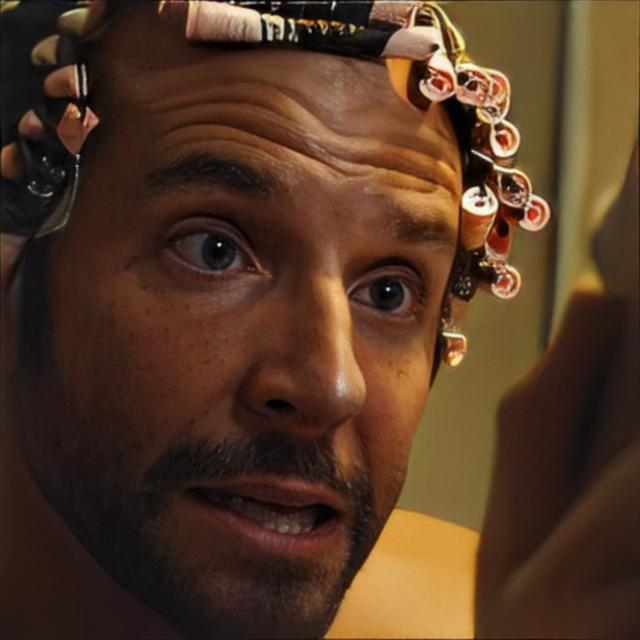surprise: (0, 1, 464, 640)
